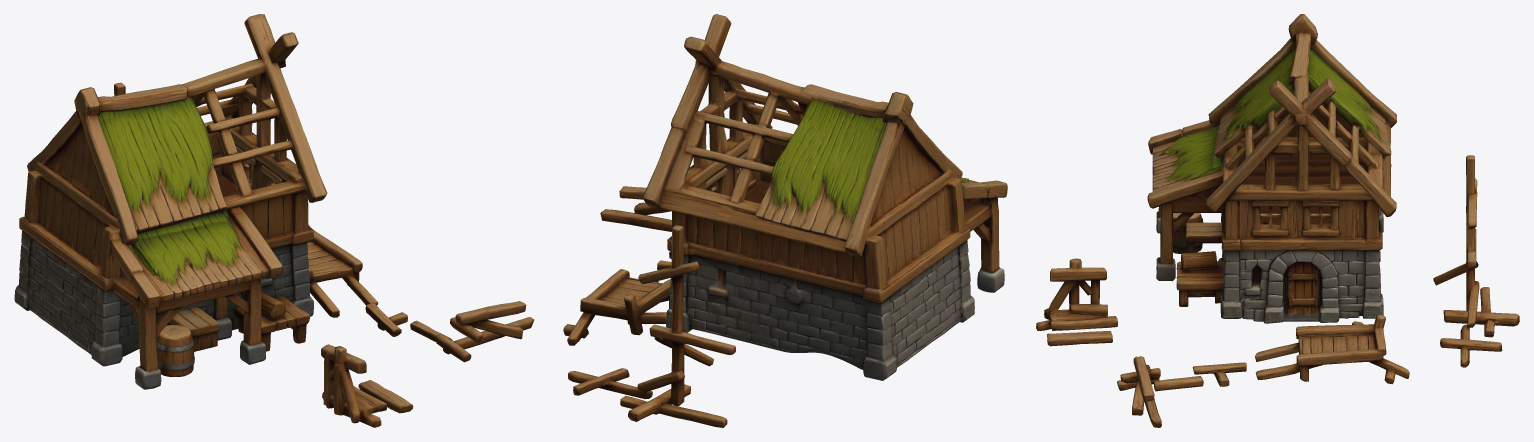
The model's file is 3402faf9-1fbf-4b8b-8ccd-ae9f6b873c20.fbx.
3 renders of one model, left to right at view 1: azimuth 30°, elevation 25°; view 2: azimuth 150°, elevation 25°; view 3: azimuth 270°, elevation 25°, orthographic. The views are drawn at different scales.
Visible parts, largest first — view 1: tripo_node_2da2324e; view 2: tripo_node_2da2324e; view 3: tripo_node_2da2324e.
Part boxes in pixels (bbox=[...]): tripo_node_2da2324e: bbox=[14, 14, 534, 427]; tripo_node_2da2324e: bbox=[563, 14, 1007, 427]; tripo_node_2da2324e: bbox=[1036, 14, 1519, 427].
Size of the model in its own units: 0.8579 by 0.5939 by 0.9804.
